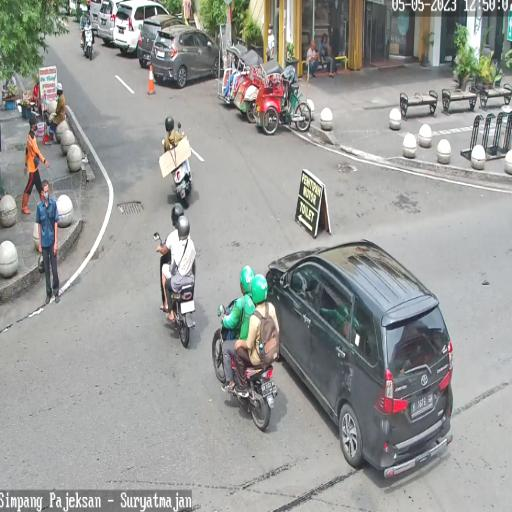mobil: (263, 238, 453, 474), (152, 24, 220, 88), (114, 0, 168, 56), (139, 14, 182, 68)
motor: (211, 302, 280, 432), (152, 231, 196, 348), (158, 129, 194, 206), (80, 22, 95, 62)
